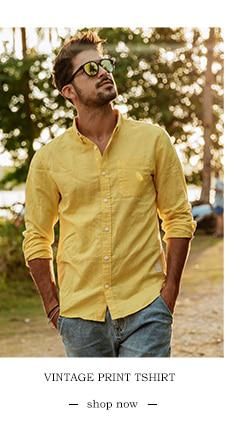pants: (56, 302, 172, 359)
